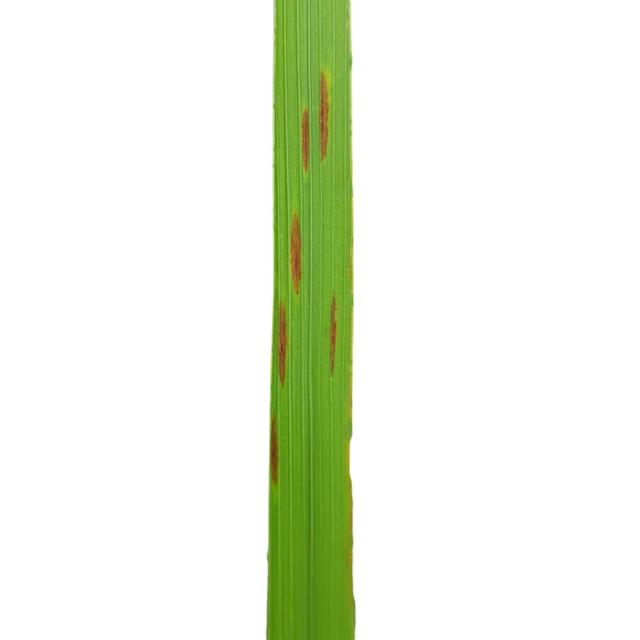Narrow brown: (182, 0, 460, 640)
